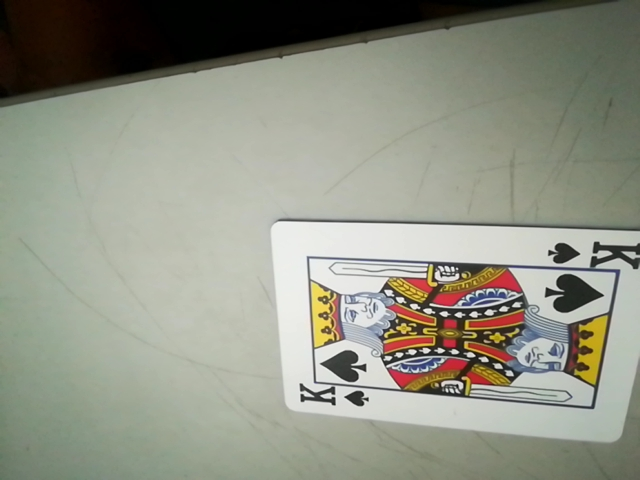ht k: (291, 378, 372, 413)
